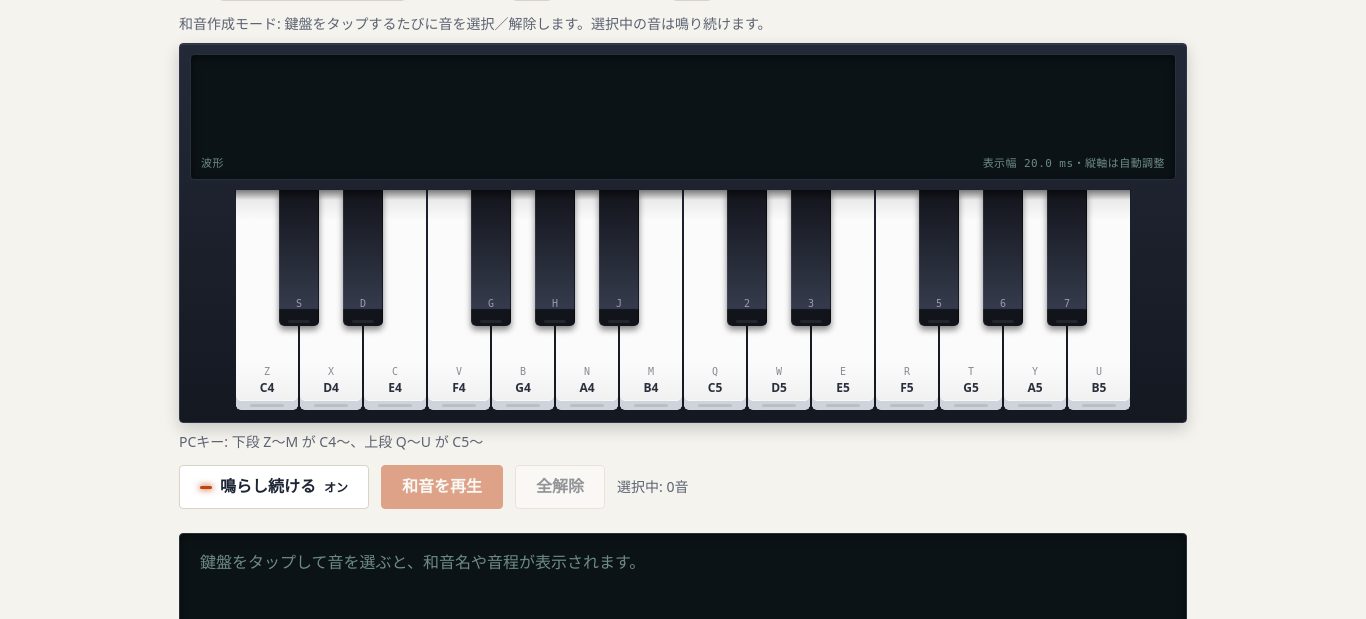
Test: App: 和音作成モード（初期モード） › Cm7 を選ぶと和音名・周波数・構成音の役割を表示する
Click the button "Z C4" at (267, 300), box x1=235 y1=190 x2=299 y2=410
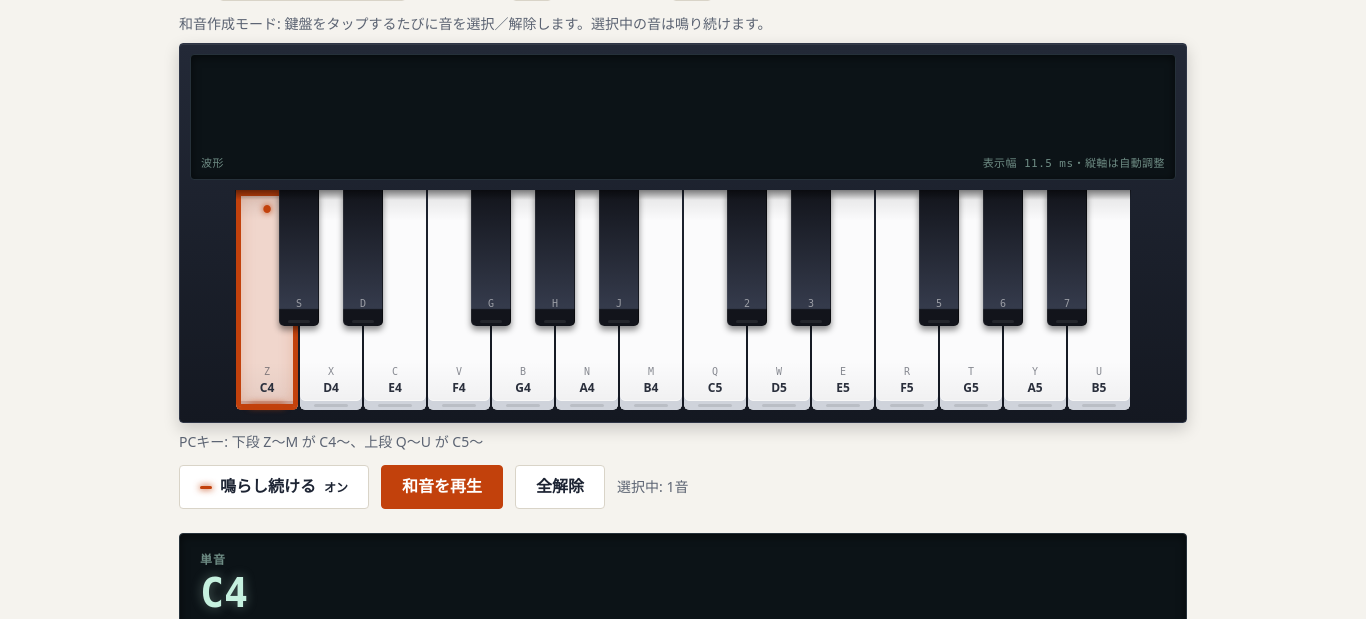
Click the button named "D♯4 / E♭4" at (363, 258), box x1=343 y1=190 x2=383 y2=326
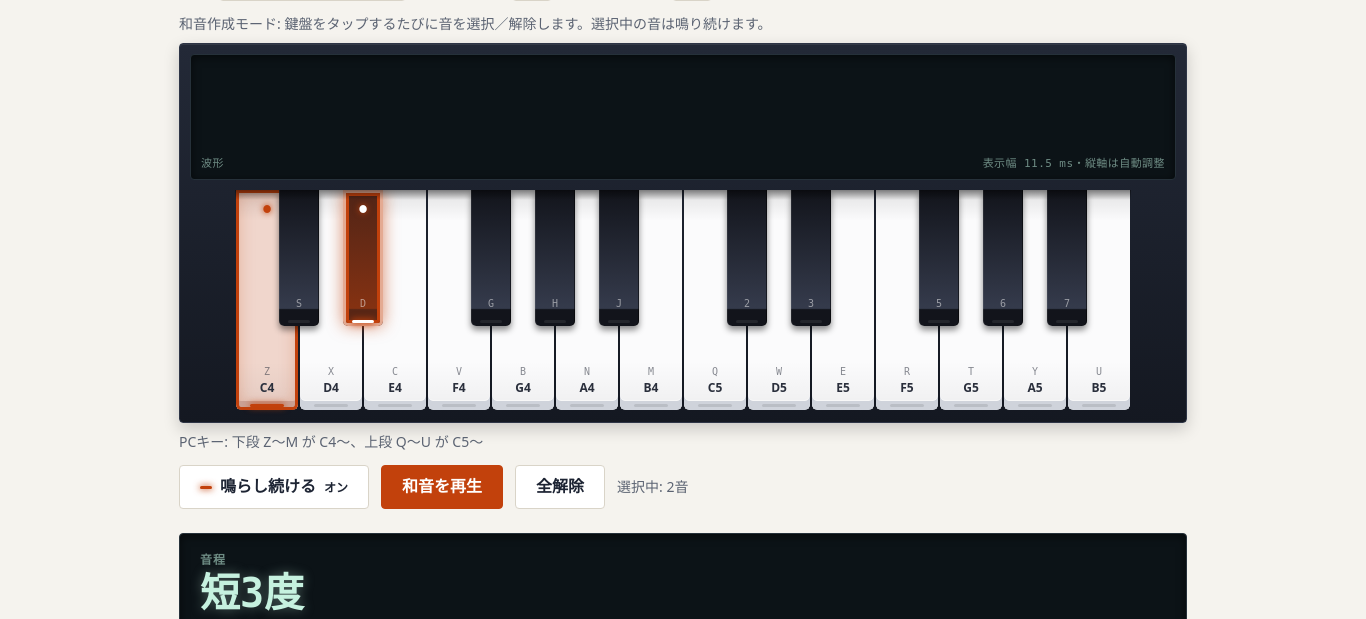
Click the button "B G4" at (523, 300), box x1=491 y1=190 x2=555 y2=410
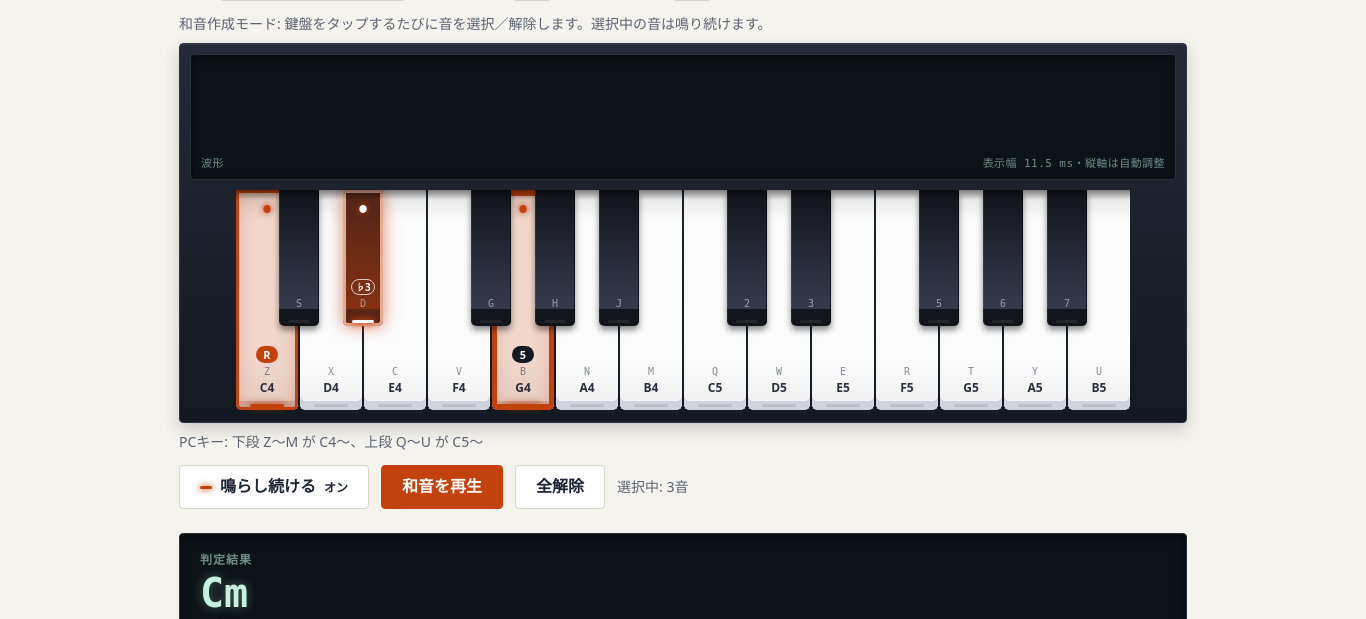
Click the button named "A♯4 / B♭4" at (619, 258), box x1=599 y1=190 x2=639 y2=326
(page scrolled)
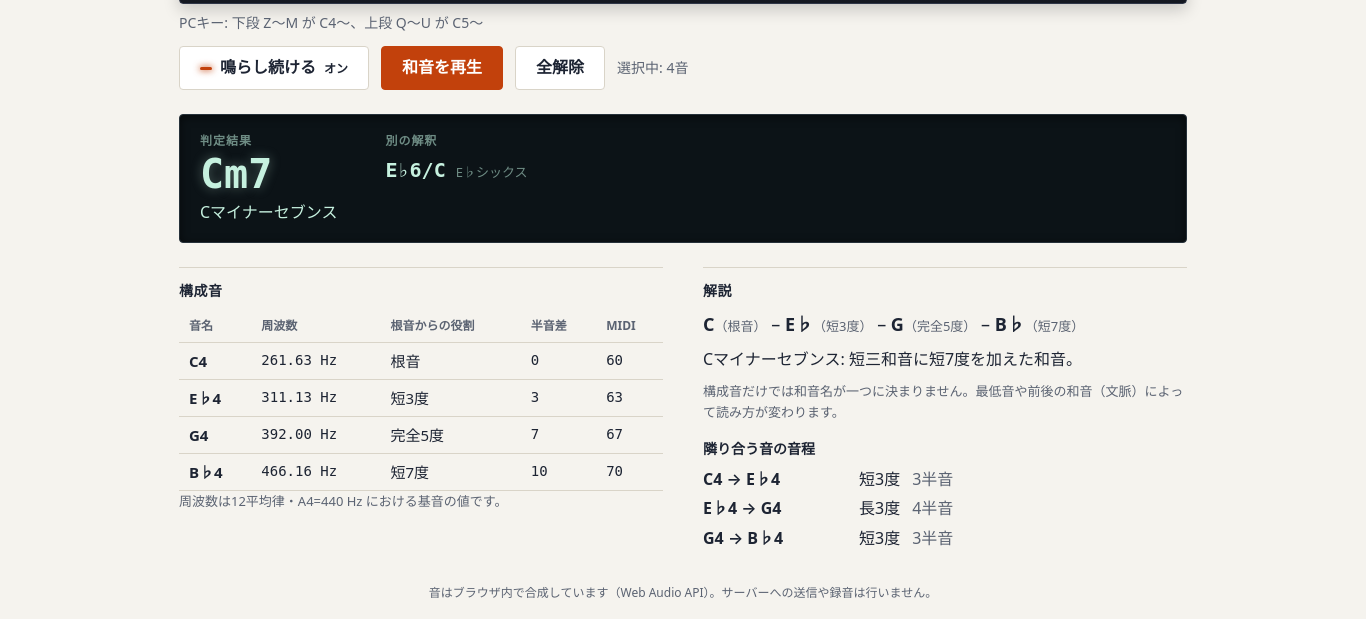
Check: the text "Cm7" is shown, box x1=200 y1=151 x2=272 y2=197
Check: the text "Cマイナーセブンス" is shown, box x1=200 y1=200 x2=338 y2=226
Check: the text "E♭6/C" is shown, box x1=386 y1=154 x2=446 y2=186
